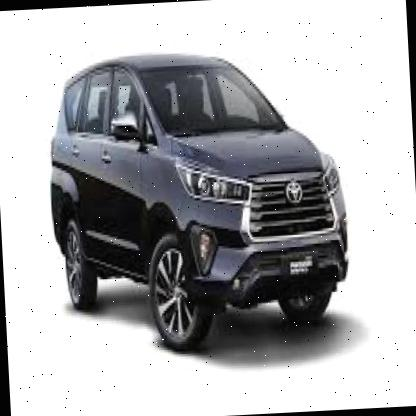car: (38, 34, 364, 363)
